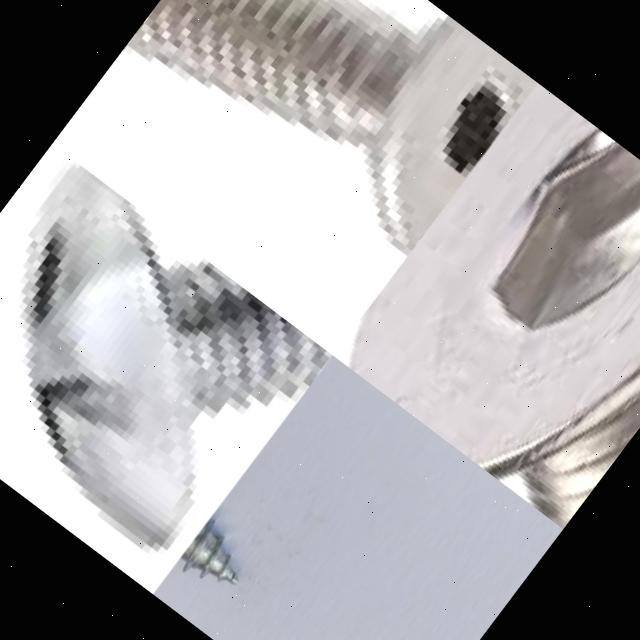Screw: (346, 83, 640, 529), (19, 160, 333, 556), (124, 0, 538, 255), (180, 522, 237, 585)
